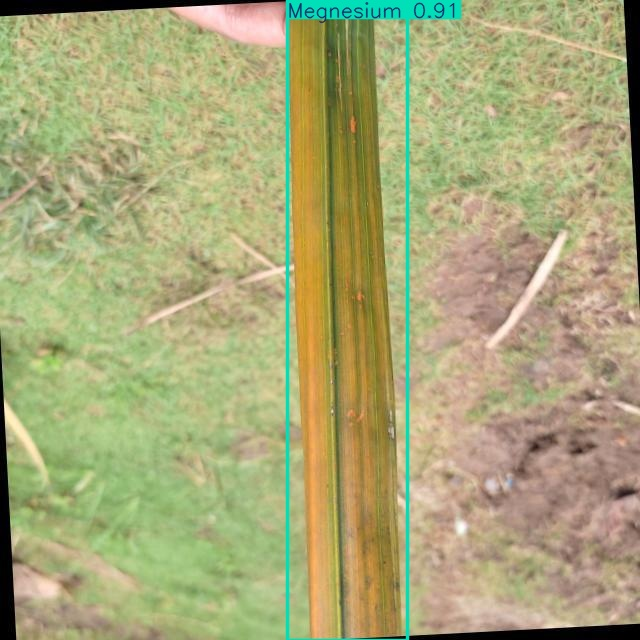Megnesium: (287, 0, 407, 640)
